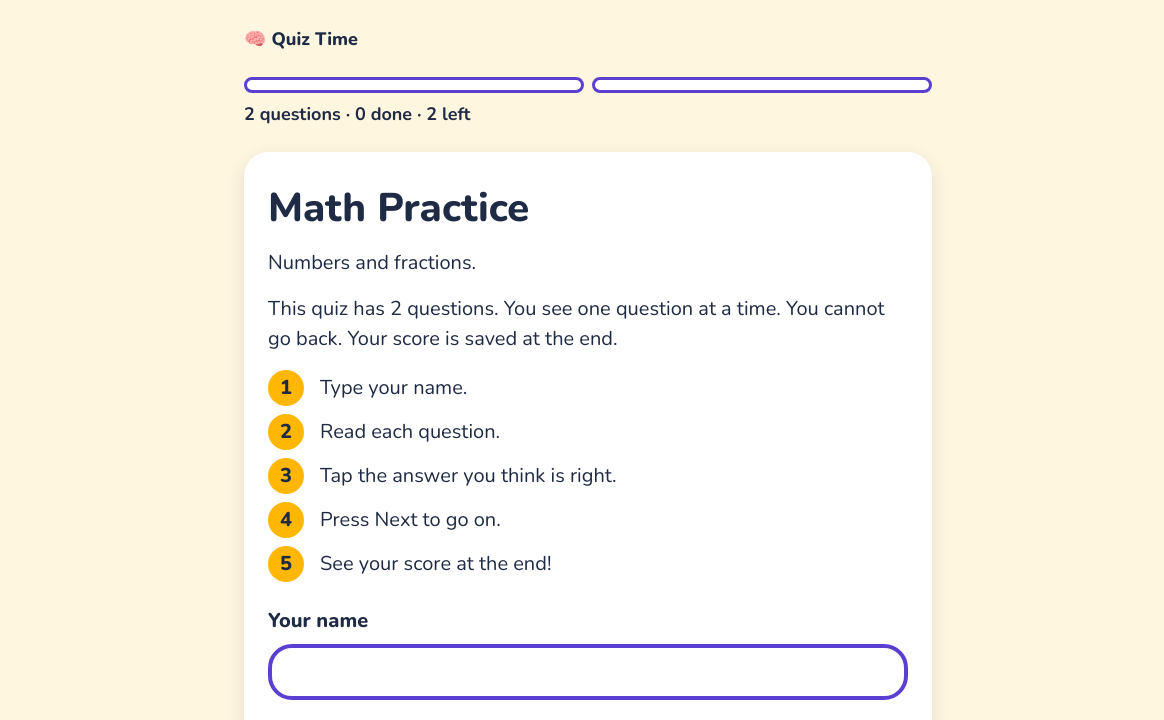
it: IntroPage › starts the quiz when Enter is pressed with a name entered
Step 1. Type "Sam" into the field labelled "Your name" → (588, 672), box [268, 644, 908, 700]
Then press Enter
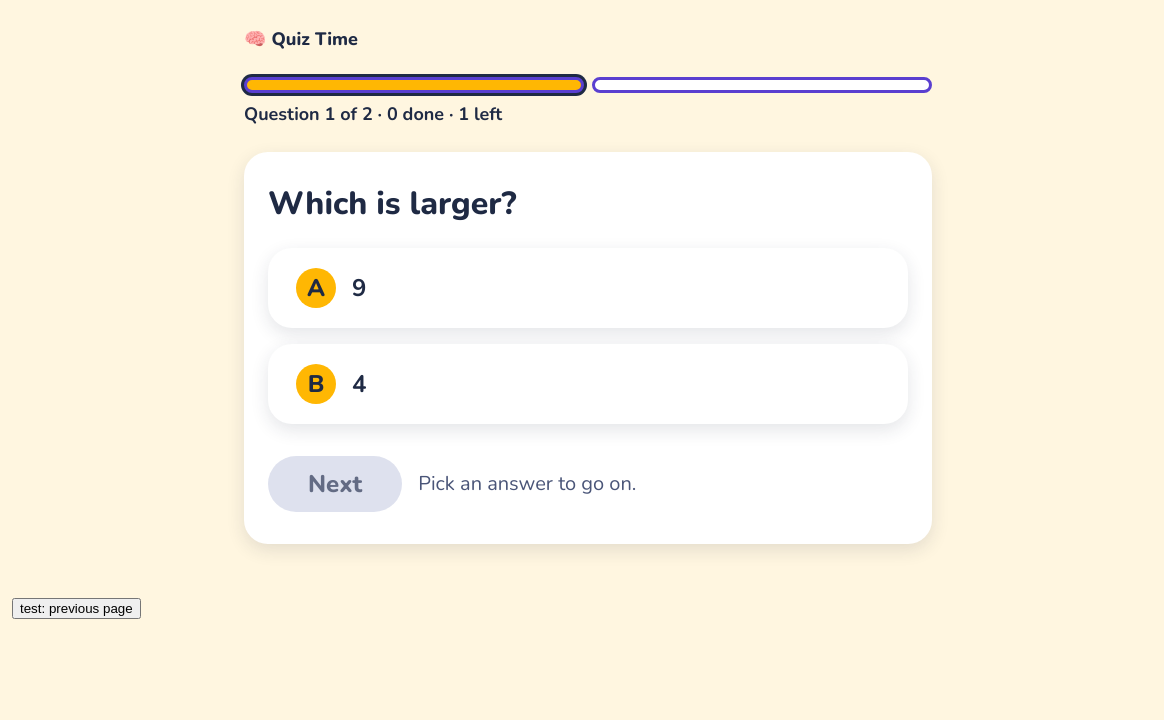
Check: the text "Question 1 of 2 · 0 done · 1 left" is shown, box [244, 102, 502, 126]
